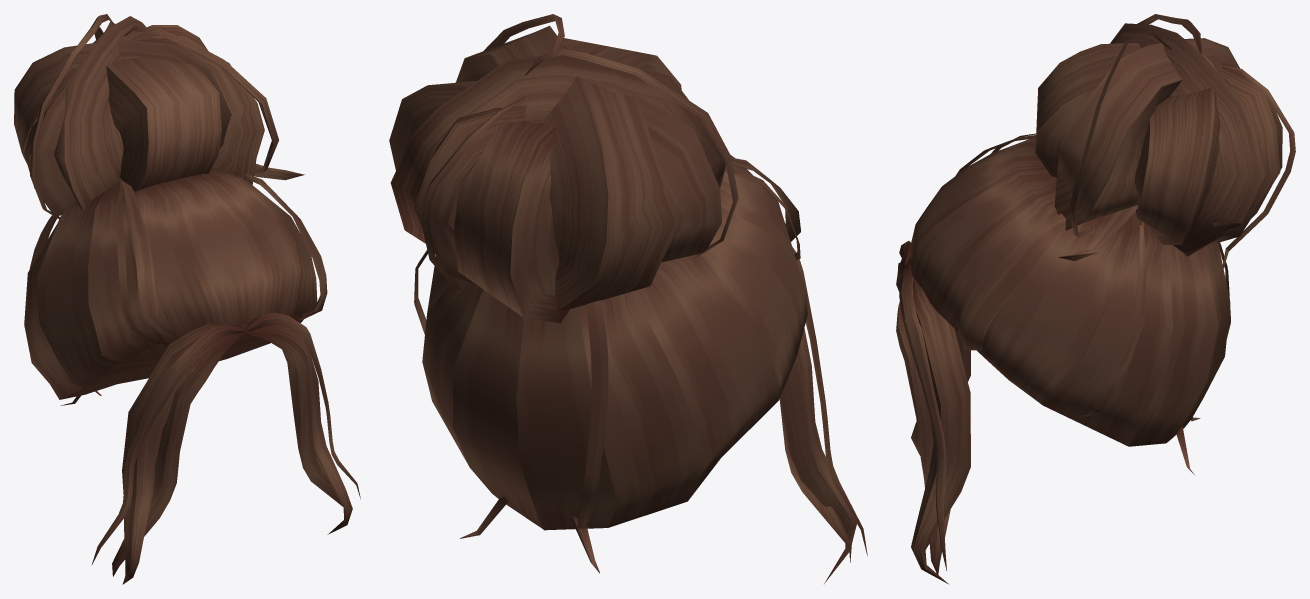
3 views of the same model, side by side, from view 1: azimuth 30°, elevation 25°; view 2: azimuth 150°, elevation 25°; view 3: azimuth 270°, elevation 25° (orthographic). The views are drawn at different scales.
Parts seen in each view (by area): view 1: geometry_0; view 2: geometry_0; view 3: geometry_0.
Part boxes in pixels (left/top/right/bottom): geometry_0: left=14, top=14, right=360, bottom=584; geometry_0: left=389, top=14, right=867, bottom=583; geometry_0: left=896, top=14, right=1295, bottom=584.
Bounding box in the file's own units: 1.61 × 2.67 × 1.92.
1 material, 1 textured.
